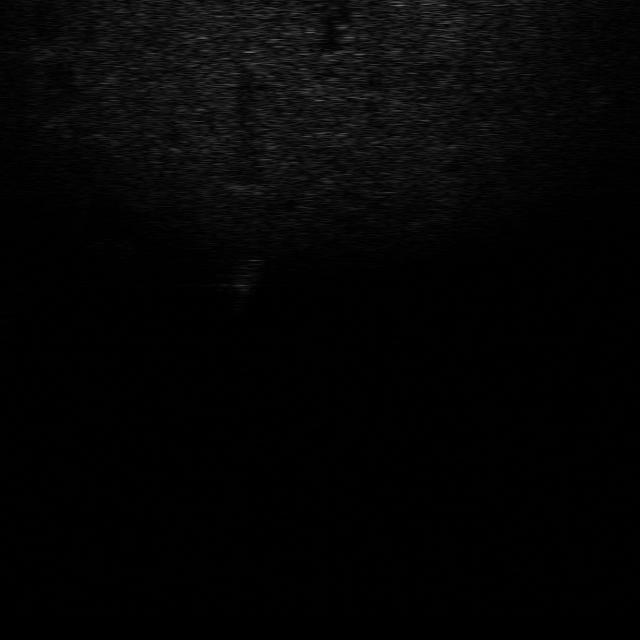human body: (227, 254, 265, 312)
